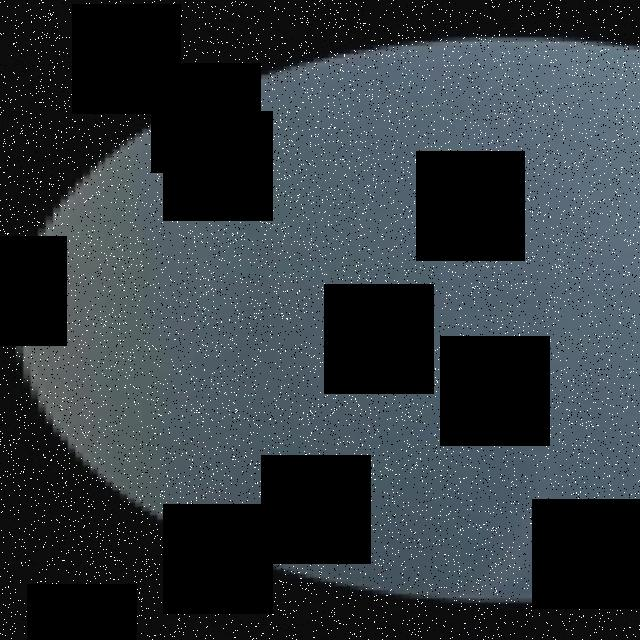Uranus: (8, 33, 640, 603)
